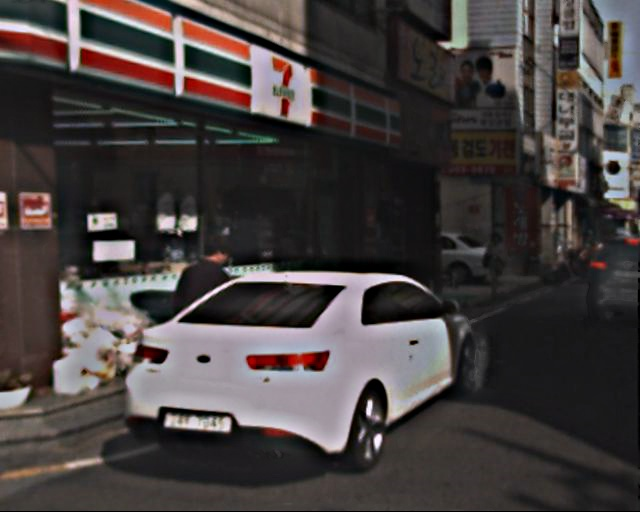person: (180, 232, 238, 375), (482, 232, 524, 301)
